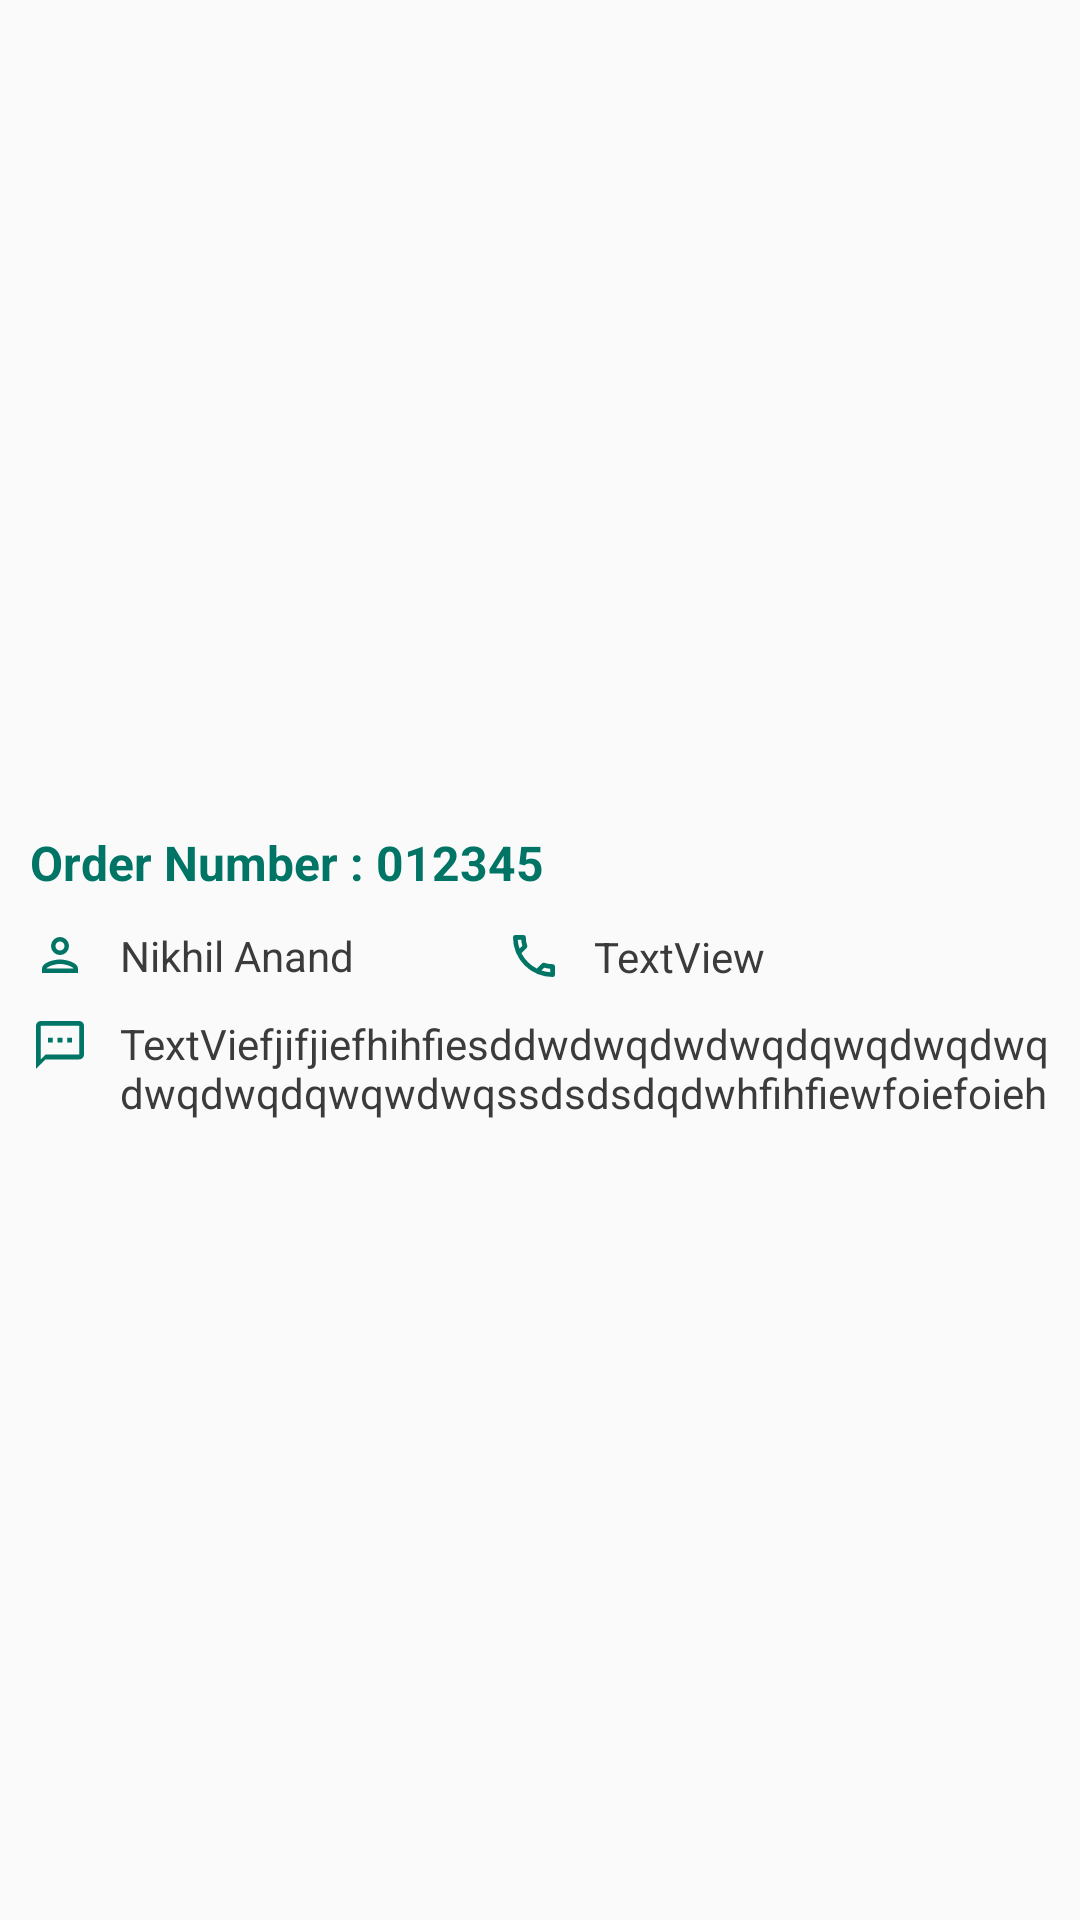

Where to tap for icons on this 1080w x 1920h app screen, as (x=x, y=y):
message: (x=60, y=1045)
phone: (x=534, y=956)
profile: (x=60, y=955)
